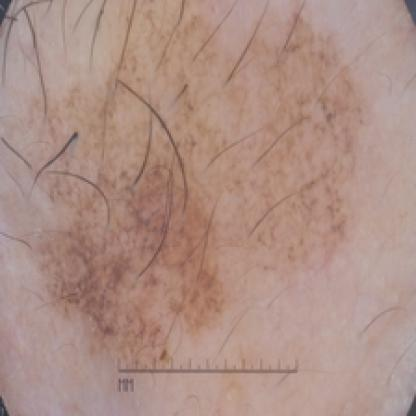Skin_Cancer-Malignant: (35, 4, 367, 360)
